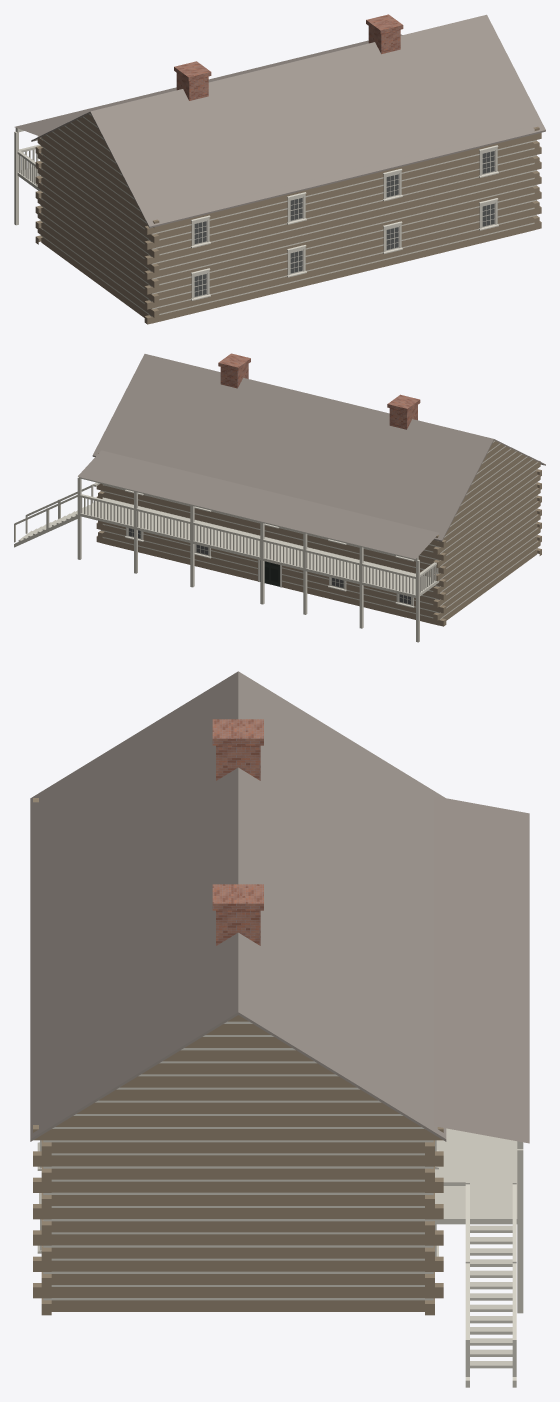
The model's file is fort_dearborn_officers_quarters__log_1816.glb.
The picture shows the model from 3 angles, top to bottom: view 1: azimuth 30°, elevation 25°; view 2: azimuth 150°, elevation 25°; view 3: azimuth 270°, elevation 25°; orthographic projection. The views are drawn at different scales.
Parts seen in each view (by area): view 1: fort_dearborn_officers_quarters__log_1816; view 2: fort_dearborn_officers_quarters__log_1816; view 3: fort_dearborn_officers_quarters__log_1816.
Part boxes in pixels (x1,y1,x2,y2): fort_dearborn_officers_quarters__log_1816: [14, 14, 545, 324]; fort_dearborn_officers_quarters__log_1816: [14, 353, 545, 642]; fort_dearborn_officers_quarters__log_1816: [30, 671, 529, 1387].
Size of the model in its own units: 22.19 by 8.94 by 11.69.
7 materials, 1 textured.
